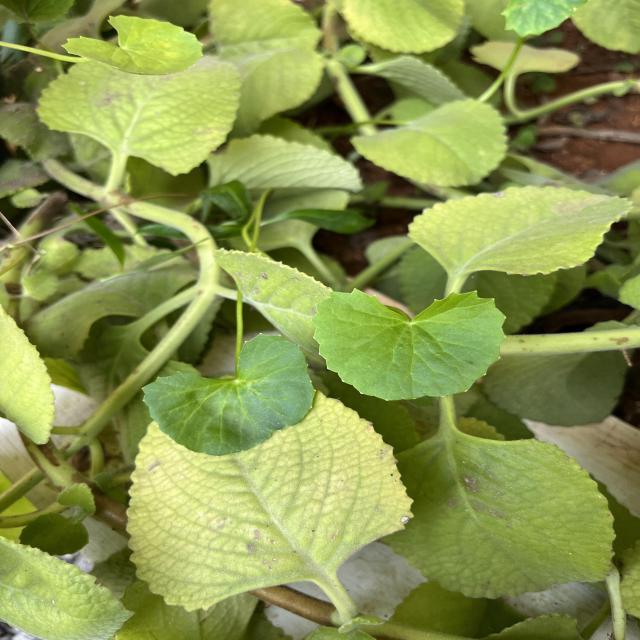Centella asiatica: (308, 284, 512, 404), (138, 329, 319, 459), (57, 11, 207, 81)
